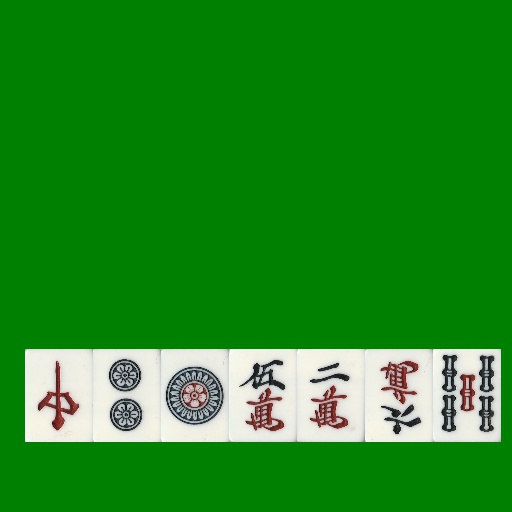1p: (161, 349, 229, 442)
2m: (297, 349, 365, 442)
2p: (93, 349, 161, 442)
5m: (229, 349, 297, 442)
5s: (433, 349, 501, 442)
6m: (365, 349, 433, 442)
tyun: (25, 349, 93, 442)
